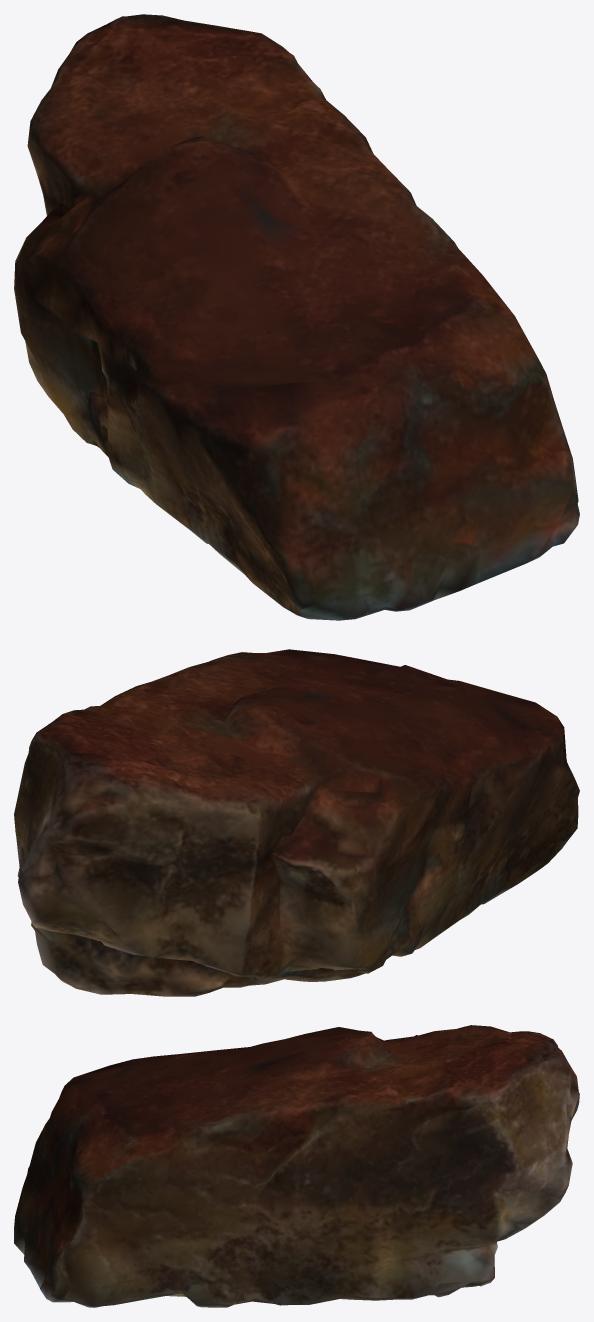
File: rock_07.glb
3 views of the same model, one above another, from view 1: azimuth 30°, elevation 25°; view 2: azimuth 150°, elevation 25°; view 3: azimuth 270°, elevation 25° (orthographic). The views are drawn at different scales.
Visible parts, largest first — view 1: rock; view 2: rock; view 3: rock.
Boxes of the visible parts, x1,y1,x2,y2 form: rock: (14,14,579,620); rock: (14,649,579,996); rock: (14,1025,579,1307).
Bounding box in the file's own units: 0.1681 × 0.1437 × 0.3199.
1 material, 1 textured.
